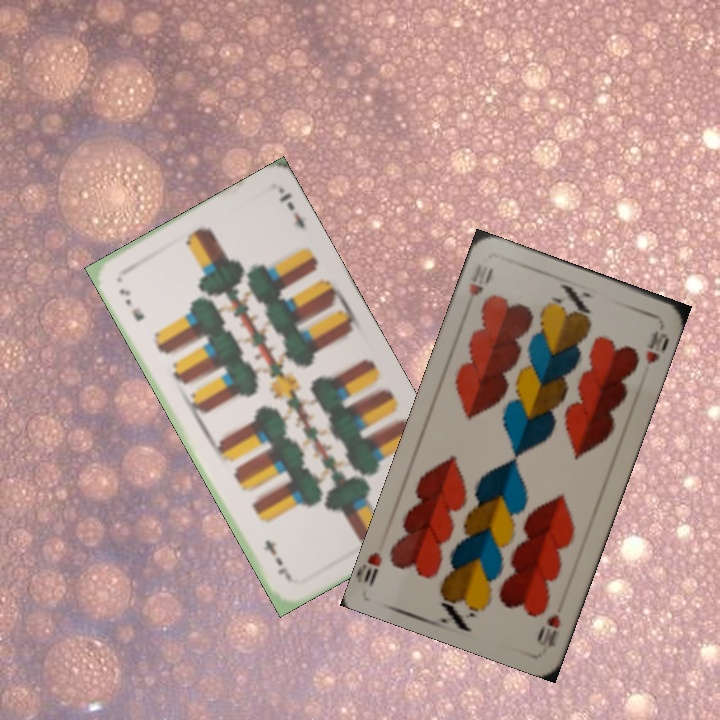E7: (115, 284, 147, 324)
H10: (460, 259, 496, 315), (532, 610, 564, 652)
